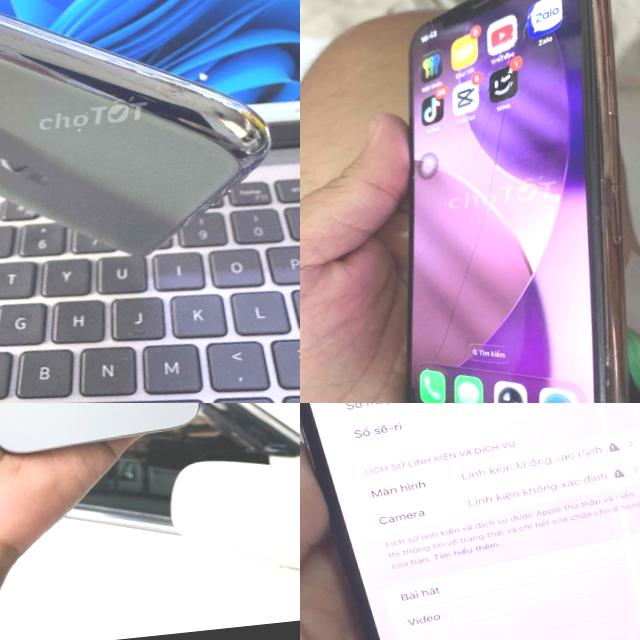physical_damage: (383, 0, 632, 403)
scratch: (582, 314, 631, 403)
screen_defect: (521, 403, 640, 640)
